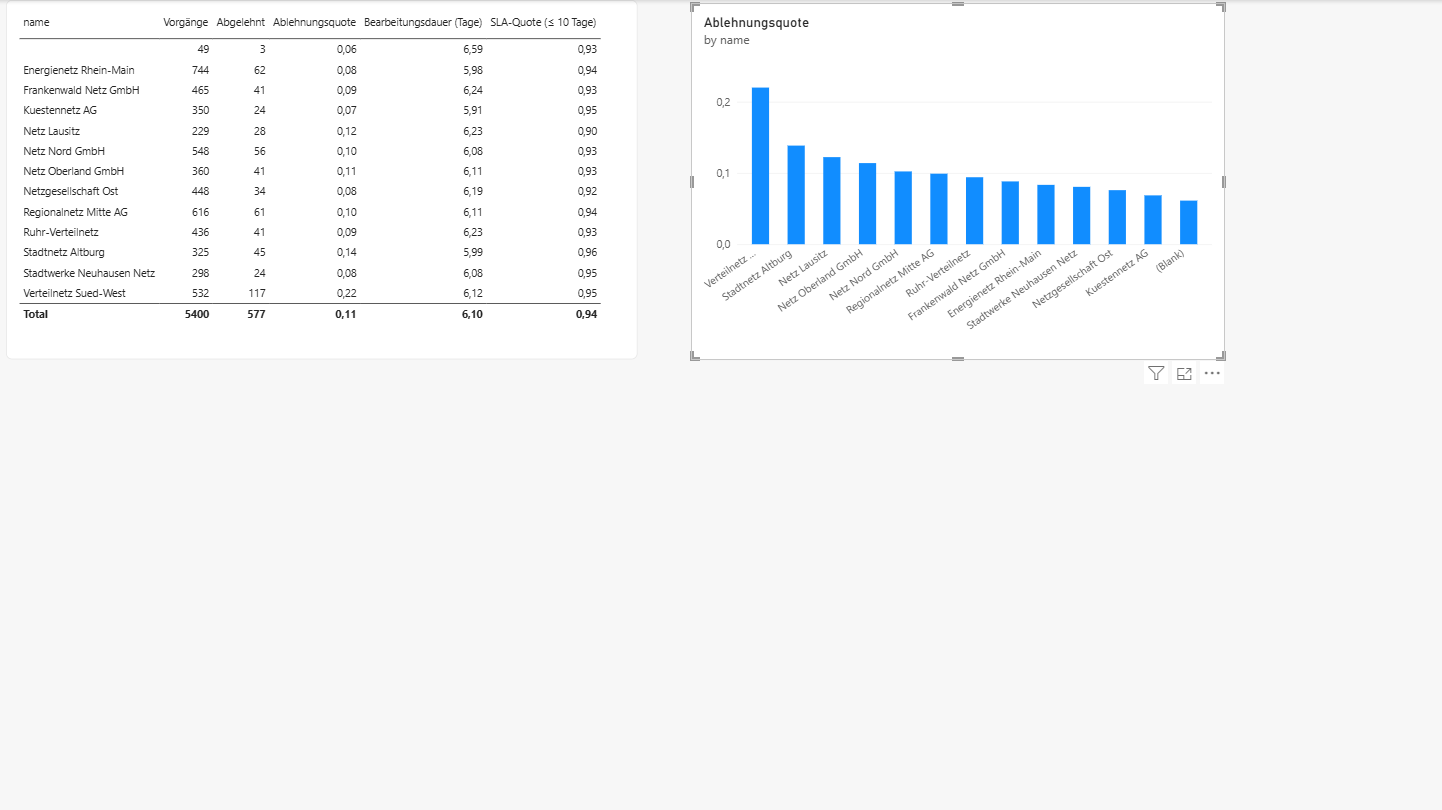

The page's visual inventory and layout, read from the dashboard file:
{"tool":"powerbi","page":{"name":"Page 3","canvas":[1920,1080],"ordinal":2},"visuals":[{"type":"tableEx","fields":{"Values":["netzbetreiber.name","wechselvorgaenge.Vorgänge","wechselvorgaenge.Abgelehnt","wechselvorgaenge.Ablehnungsquote","wechselvorgaenge.Bearbeitungsdauer (Tage)","Kalender.SLA-Quote (≤ 10 Tage)"]},"box":[9,0,839.6,478.5],"z":0},{"type":"clusteredColumnChart","fields":{"Category":["netzbetreiber.name"],"Y":["wechselvorgaenge.Ablehnungsquote"]},"box":[920.4,4,710.2,474.8],"z":1}]}

Visuals, with their boxes in screenshot pixels (x1, y1, x2, y2), scaled from the page's 1920x1080 canvas onto the 1442x810 screenshot:
tableEx - netzbetreiber.name x wechselvorgaenge.Vorgänge: 7,0,637,359
clusteredColumnChart - netzbetreiber.name x wechselvorgaenge.Ablehnungsquote: 691,3,1225,359
